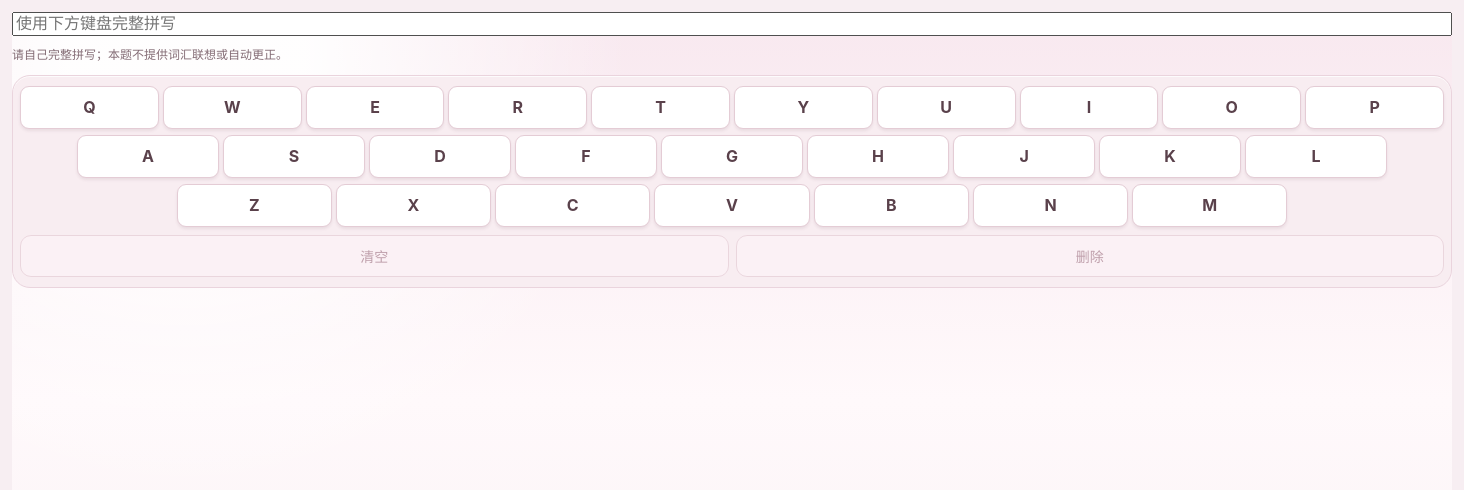
Scenario: SpellingKeyboard › collects a spelling answer without opening an editable system text field
The image size is (1464, 490).
Step 1. Click the button named "输入字母 m" → coordinates (1210, 205), box x1=1132 y1=184 x2=1287 y2=227
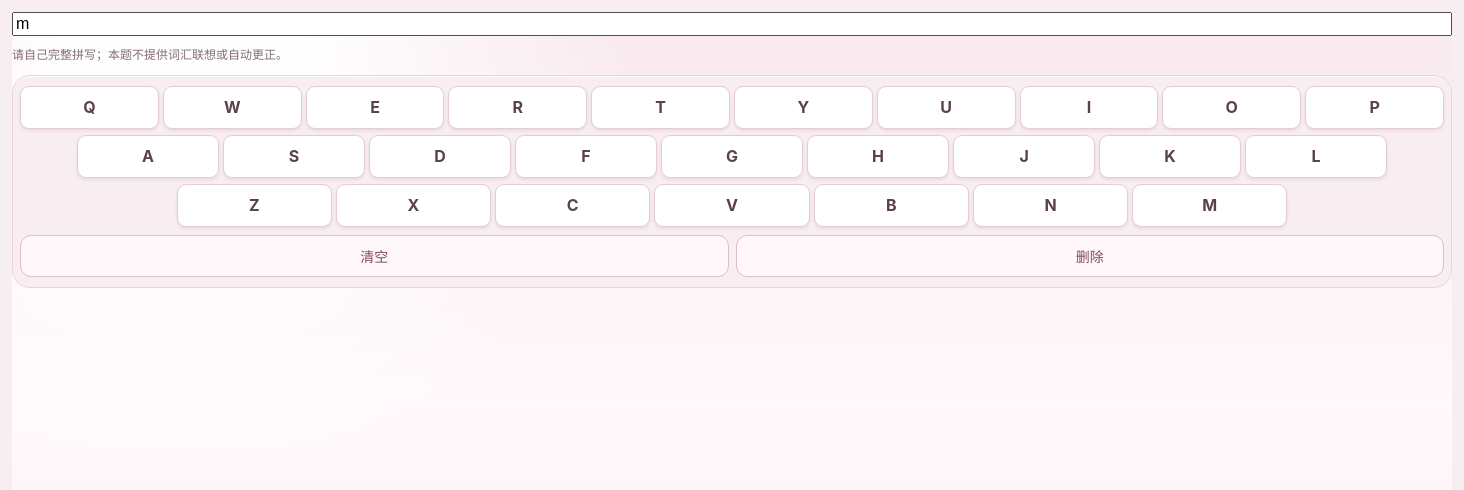
Step 2. Click the button named "输入字母 a" → coordinates (148, 156), box x1=77 y1=135 x2=219 y2=178
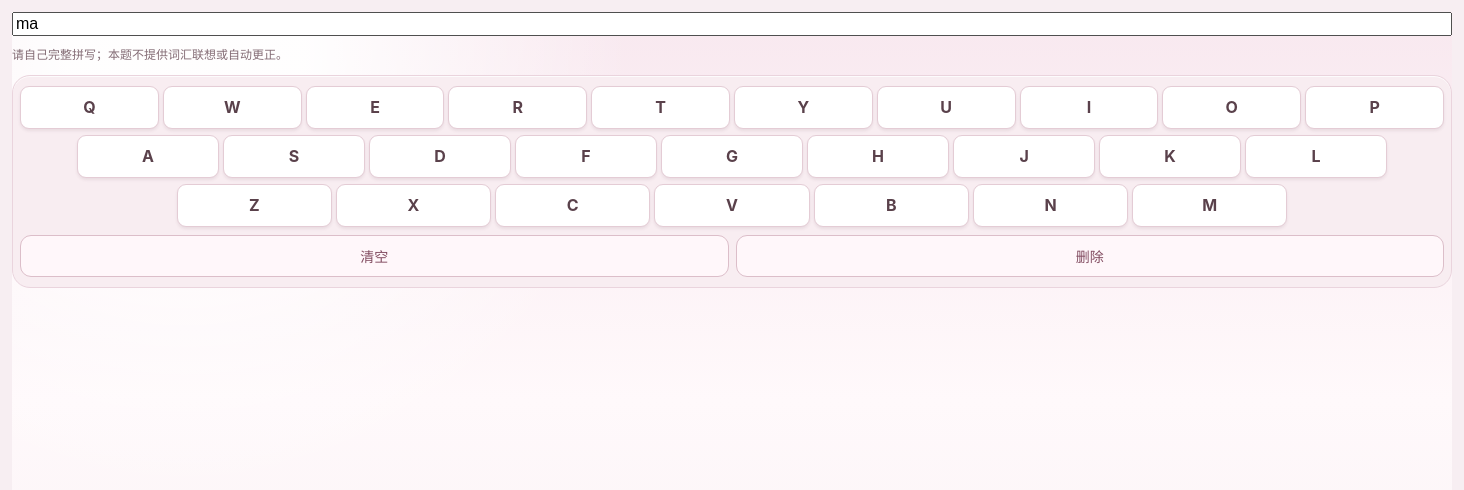
Check: the field named "当前拼写答案" holds "ma", box x1=12 y1=12 x2=1452 y2=36
Step 3. Click the button "删除" → coordinates (1090, 256), box x1=736 y1=235 x2=1444 y2=277
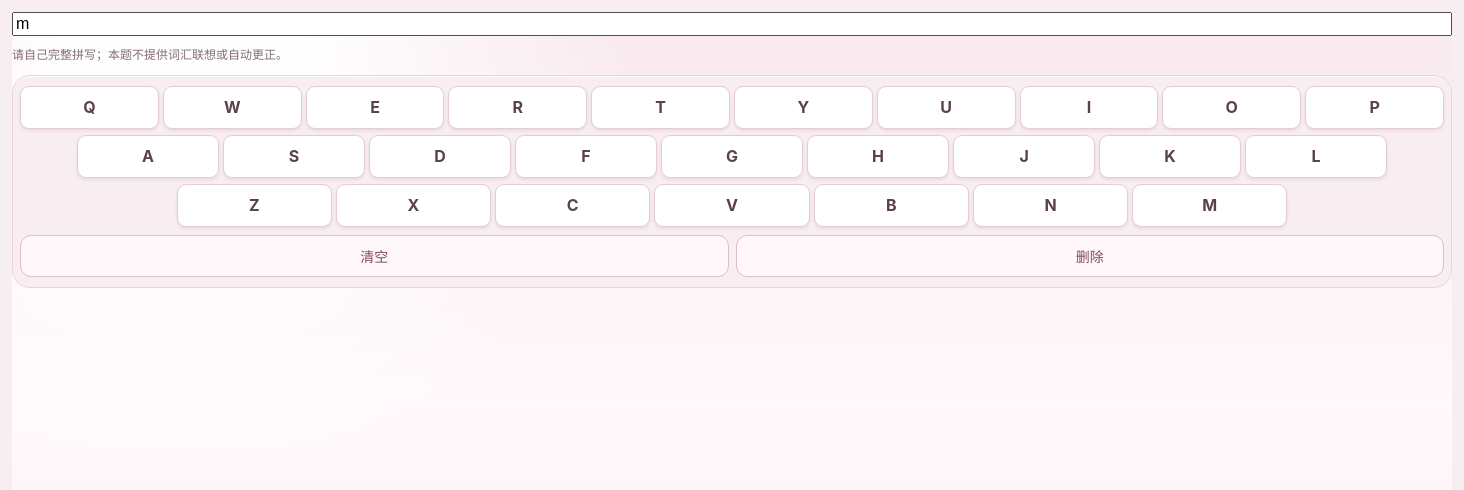
Check: the field named "当前拼写答案" holds "m", box x1=12 y1=12 x2=1452 y2=36
Step 4. Click the button "清空" → coordinates (374, 256), box x1=20 y1=235 x2=728 y2=277
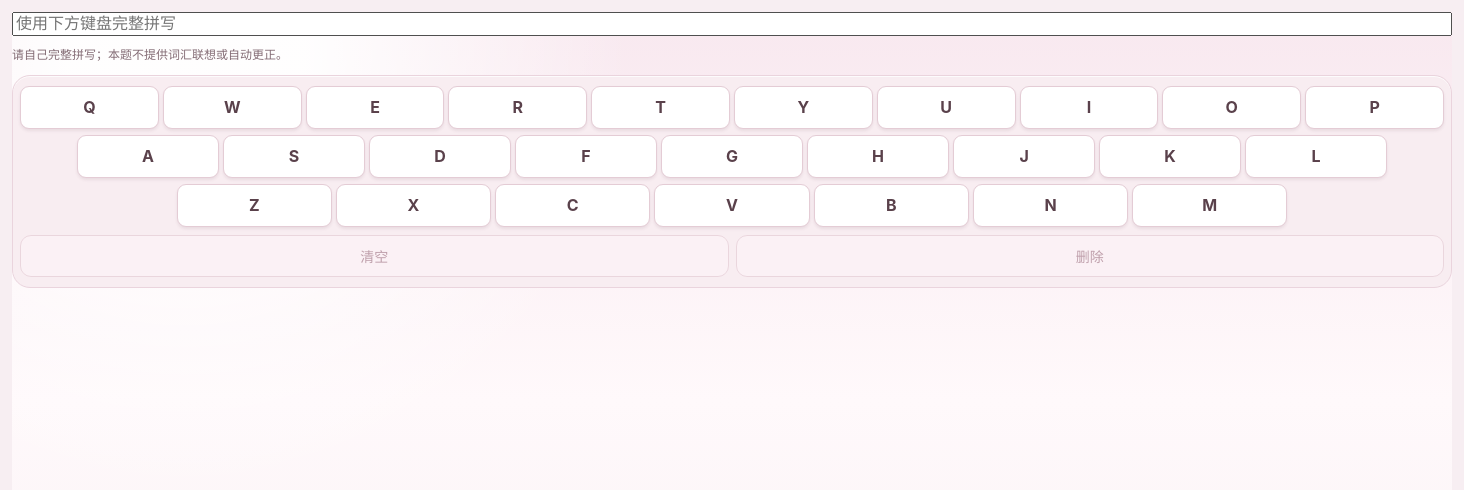
Check: the field named "当前拼写答案" is empty, box x1=12 y1=12 x2=1452 y2=36
